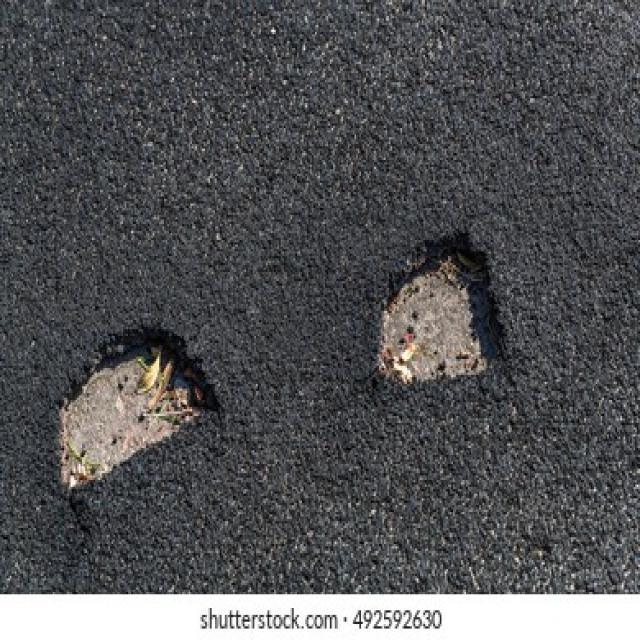Pothole: (51, 322, 220, 489), (372, 228, 512, 384)
